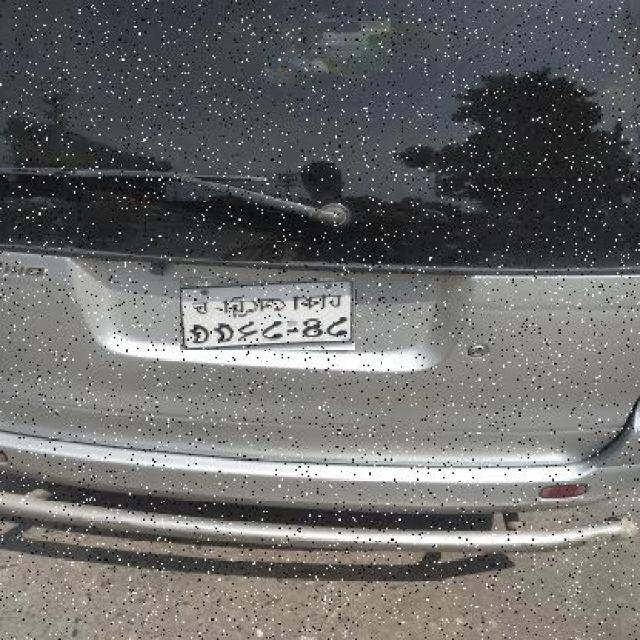numberplate: (180, 278, 355, 350)
